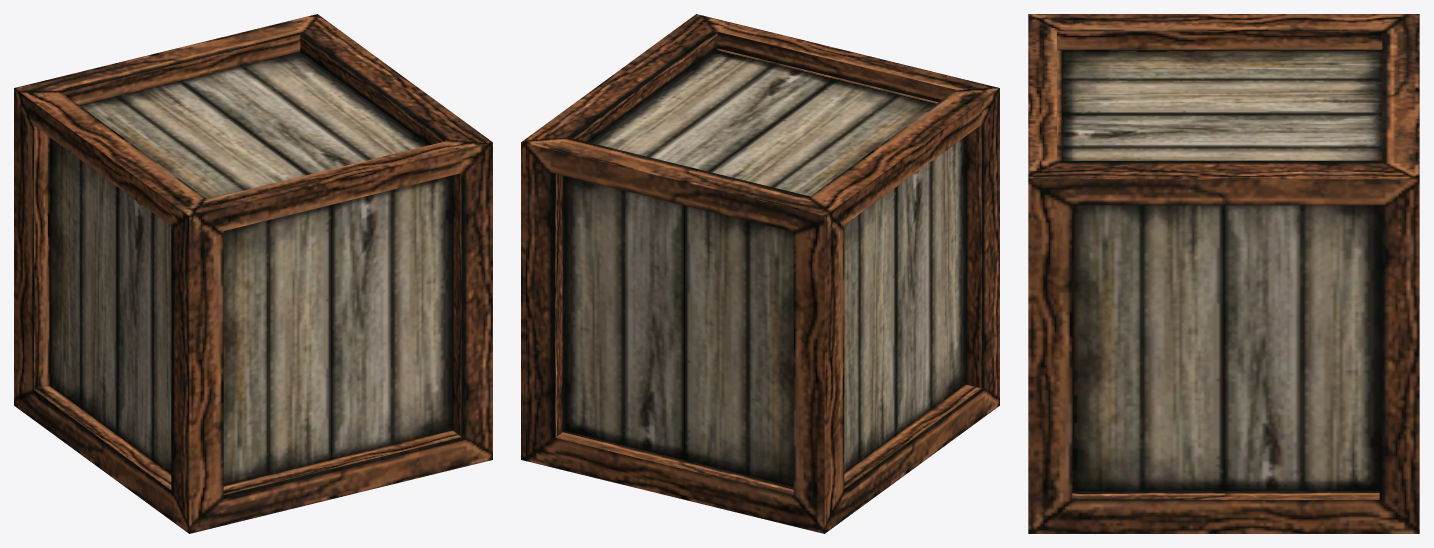
File: INST_LT_CRATE.fbx
The picture shows the model from 3 angles, left to right: view 1: azimuth 30°, elevation 25°; view 2: azimuth 150°, elevation 25°; view 3: azimuth 270°, elevation 25°; orthographic projection. The views are drawn at different scales.
Parts seen in each view (by area): view 1: INST_LT_CRATE; view 2: INST_LT_CRATE; view 3: INST_LT_CRATE.
Part boxes in pixels (left/top/right/bottom): INST_LT_CRATE: left=14, top=14, right=492, bottom=533; INST_LT_CRATE: left=521, top=14, right=999, bottom=533; INST_LT_CRATE: left=1028, top=14, right=1419, bottom=533.
Size of the model in its own units: 7095 by 7095 by 7095.
Materials: 1 (1 with a texture image).
